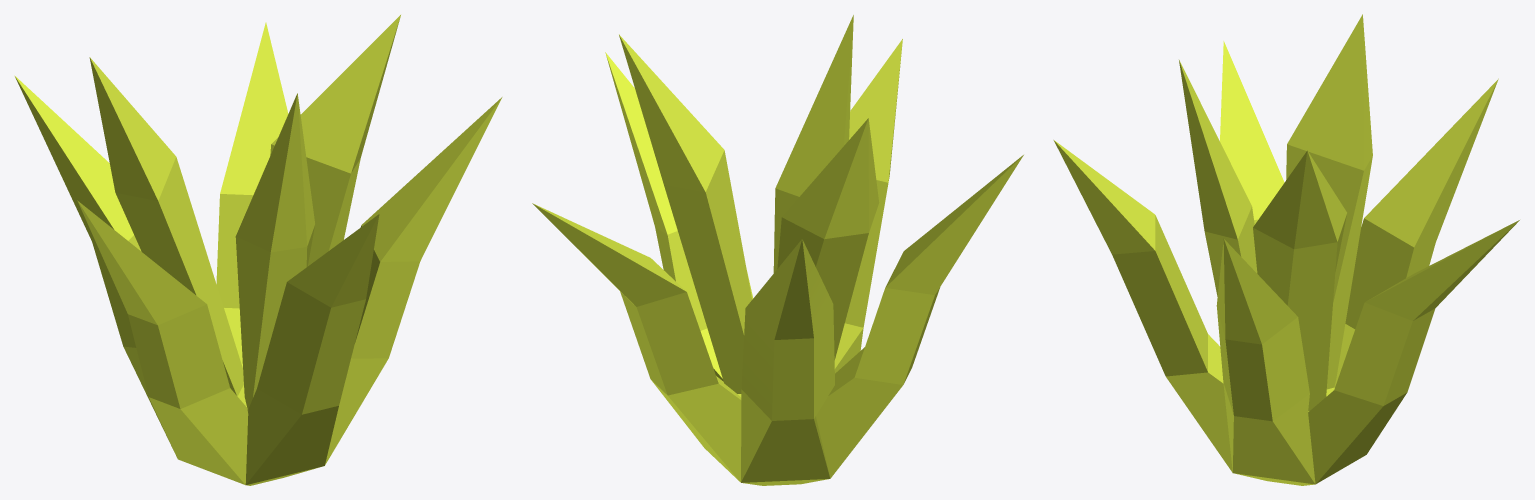
The model's file is nature_aloe-vera.fbx.
The picture shows the model from 3 angles, left to right: view 1: azimuth 30°, elevation 25°; view 2: azimuth 150°, elevation 25°; view 3: azimuth 270°, elevation 25°; orthographic projection. The views are drawn at different scales.
Visible parts, largest first — view 1: nature_aloe_vera; view 2: nature_aloe_vera; view 3: nature_aloe_vera.
Boxes of the visible parts, <box> form: nature_aloe_vera: <box>14,15,502,485</box>; nature_aloe_vera: <box>532,15,1023,485</box>; nature_aloe_vera: <box>1053,14,1519,485</box>.
Bounding box in the file's own units: 200 × 192 × 200.
